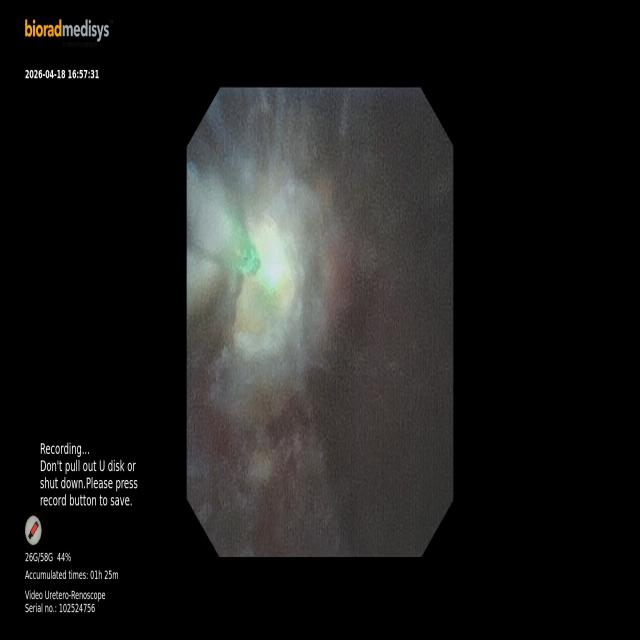laser-fibre: (186, 170, 260, 273)
laser_dot: (257, 238, 291, 292)
stone-new: (223, 182, 340, 408), (186, 167, 235, 316)
